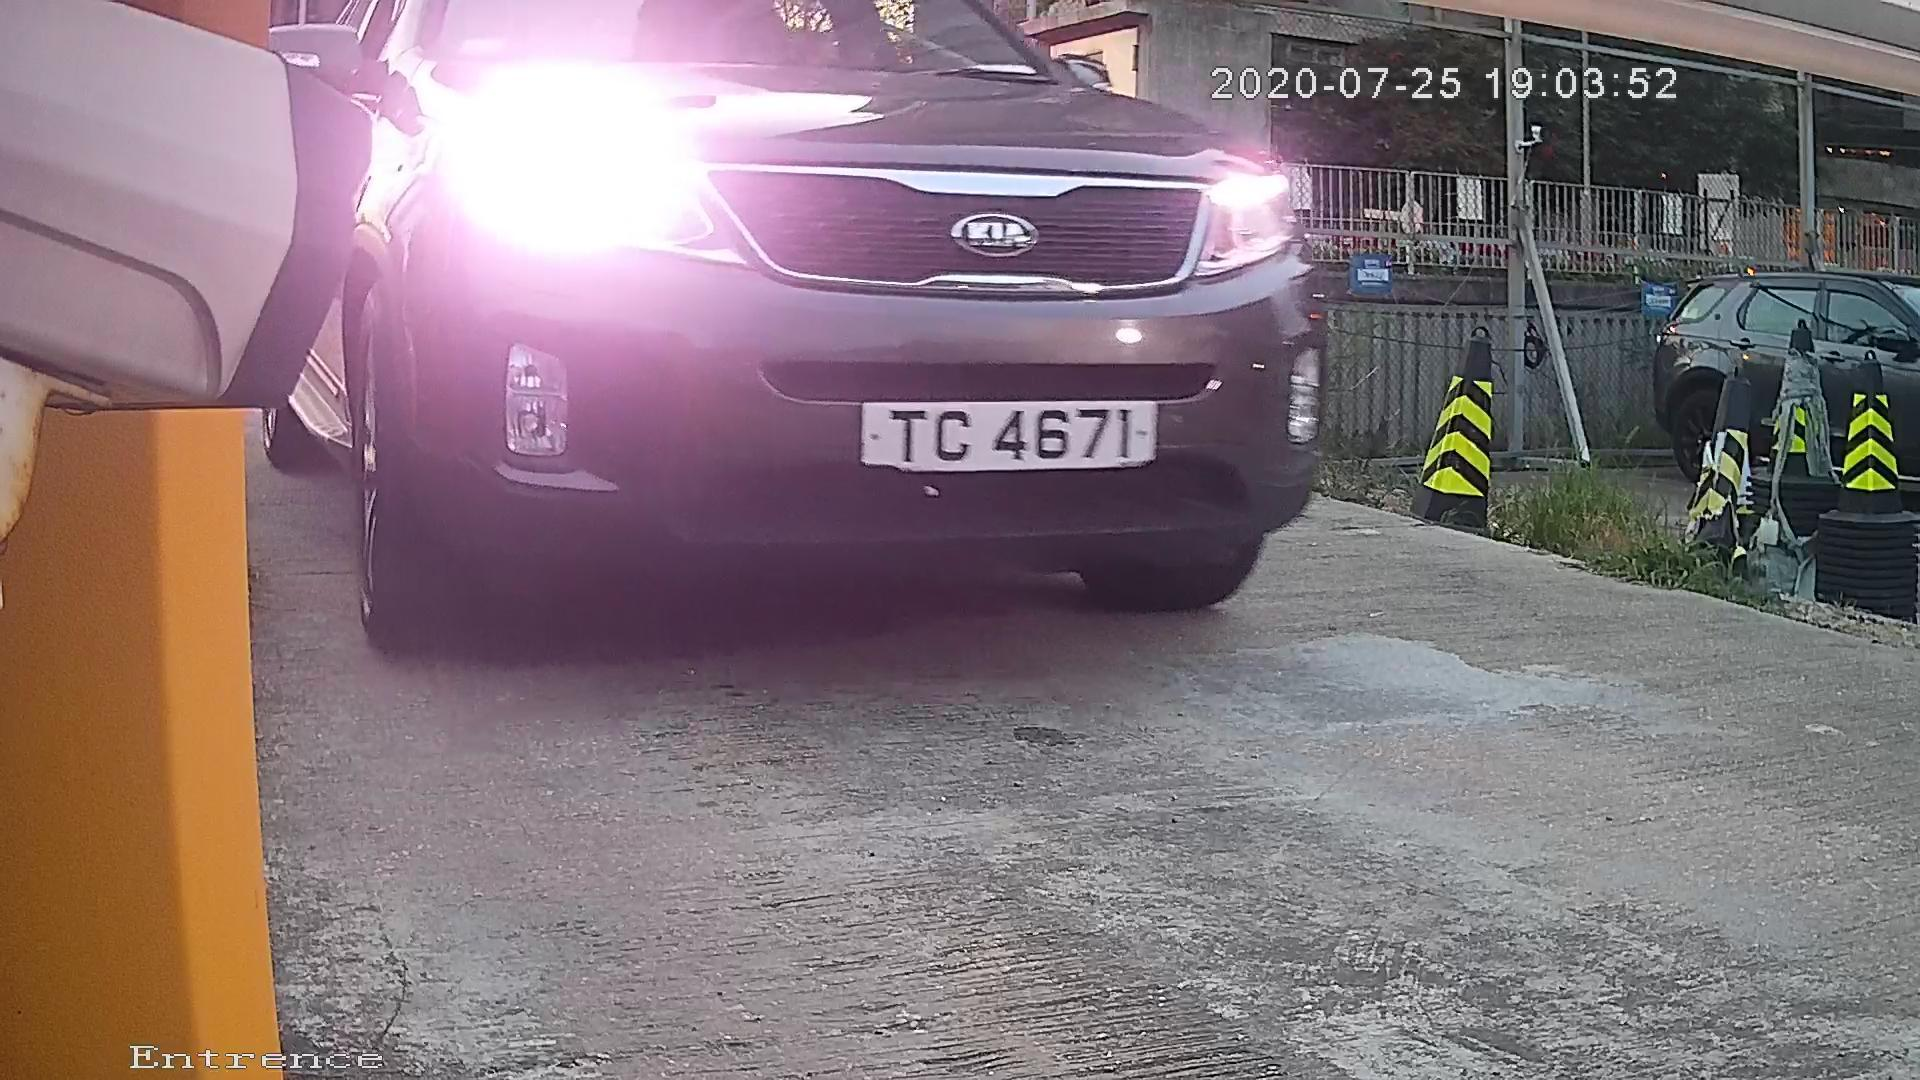privatecar: (309, 1, 1389, 671)
